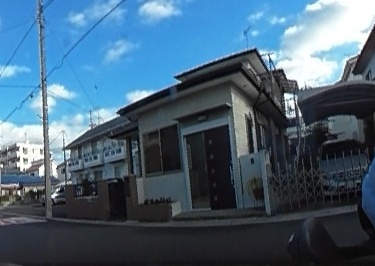person: (364, 24, 375, 262)
